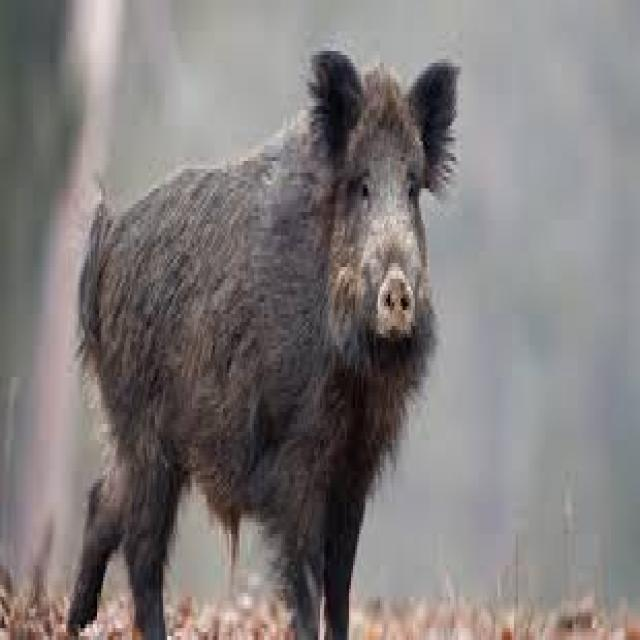Boar: (61, 55, 466, 627)
